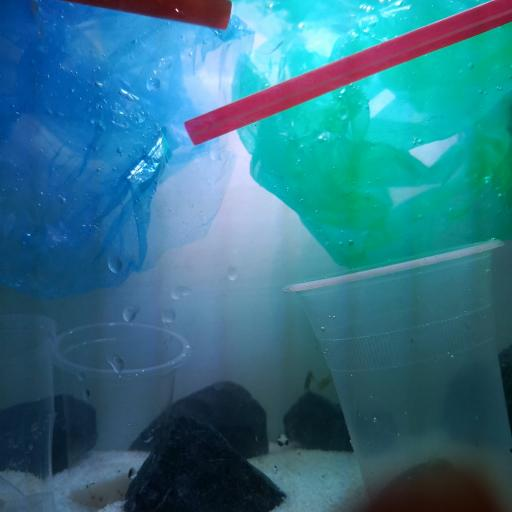plastic_bag: (229, 0, 512, 273), (1, 0, 228, 300)
plastic_cup: (282, 236, 512, 512), (44, 320, 193, 507), (0, 312, 57, 512)
plastic_straw: (184, 0, 512, 147), (60, 0, 231, 31)
